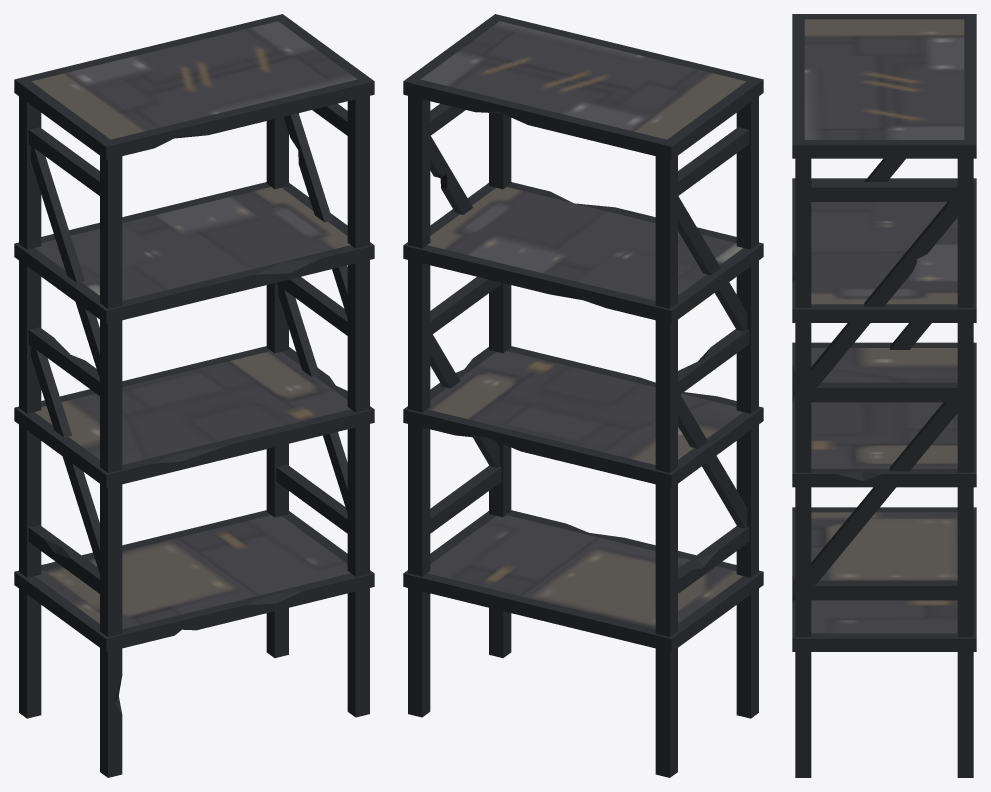
The model's file is SM_Prop_Shelf_02.fbx.
3 views of the same model, side by side, from view 1: azimuth 30°, elevation 25°; view 2: azimuth 150°, elevation 25°; view 3: azimuth 270°, elevation 25° (orthographic).
Visible parts, largest first — view 1: SM_Prop_Shelf_02; view 2: SM_Prop_Shelf_02; view 3: SM_Prop_Shelf_02.
Part boxes in pixels (x1,y1,x2,y2): SM_Prop_Shelf_02: (14, 14, 374, 777); SM_Prop_Shelf_02: (403, 14, 763, 777); SM_Prop_Shelf_02: (792, 14, 976, 777).
Bounding box in the file's own units: 95.59 × 215 × 56.74.
